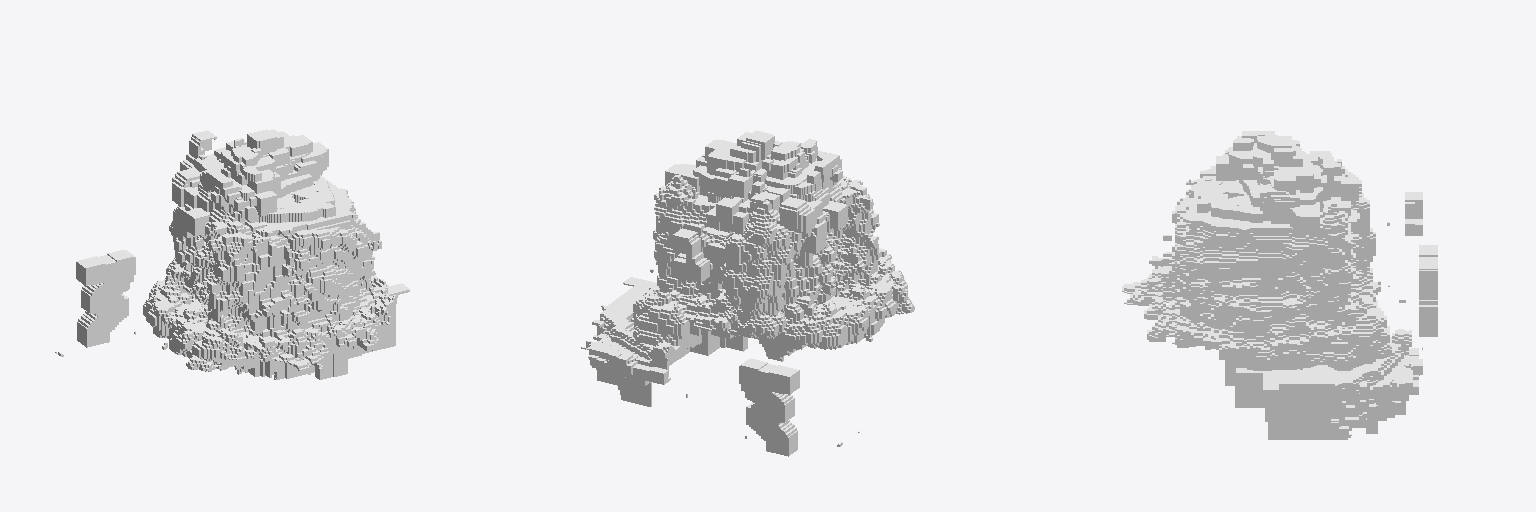
Rendered from Lava_stuff-21.obj.
The picture shows the model from 3 angles: view 1: azimuth 30°, elevation 25°; view 2: azimuth 150°, elevation 25°; view 3: azimuth 270°, elevation 25°; orthographic projection.
Visible parts, largest first — view 1: object 1; view 2: object 1; view 3: object 1.
Boxes of the visible parts, x1=… form: object 1: x1=55, y1=129, x2=409, y2=379; object 1: x1=581, y1=130, x2=914, y2=456; object 1: x1=1122, y1=131, x2=1437, y2=439.
Size of the model in its own units: 24.1 by 18.7 by 22.7.